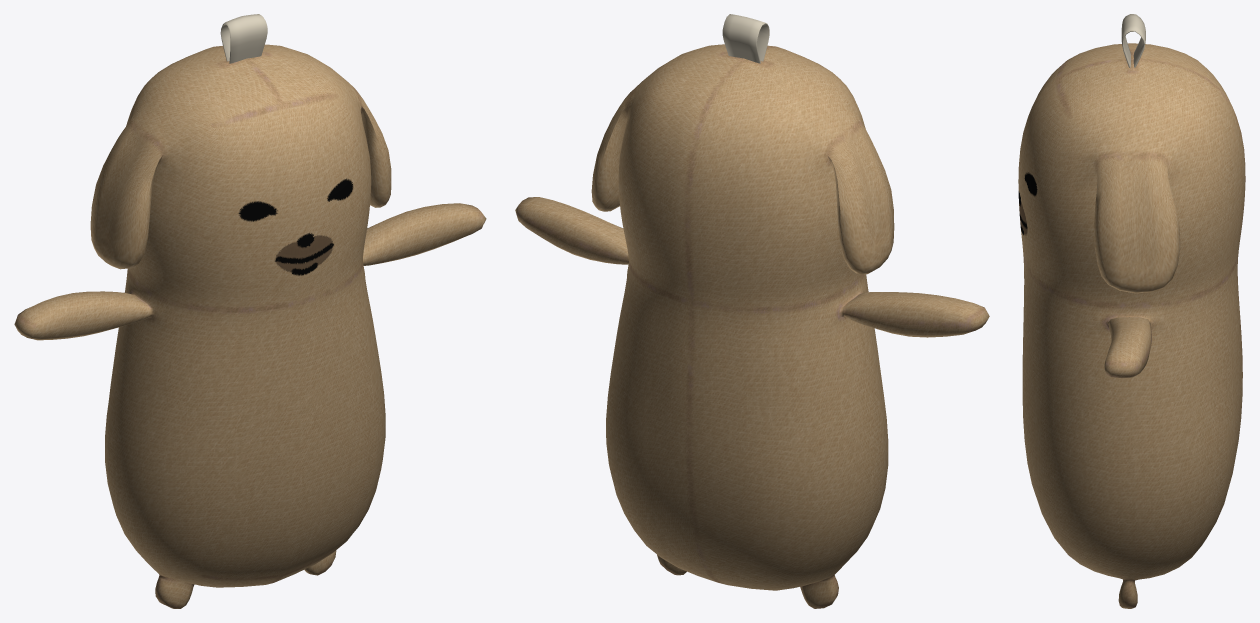
File: Nudaeng_Tpose.glb
3 renders of one model, left to right at view 1: azimuth 30°, elevation 25°; view 2: azimuth 150°, elevation 25°; view 3: azimuth 270°, elevation 25°, orthographic. The views are drawn at different scales.
Visible parts, largest first — view 1: Nudaeng_Low.001; view 2: Nudaeng_Low.001; view 3: Nudaeng_Low.001.
Boxes of the visible parts, box(x1,y1,x2,y2) form: Nudaeng_Low.001: box(14, 14, 486, 608); Nudaeng_Low.001: box(515, 14, 989, 608); Nudaeng_Low.001: box(1018, 14, 1245, 608).
Bounding box in the file's own units: 5.35 × 6.29 × 2.33.
1 material, 1 textured.
